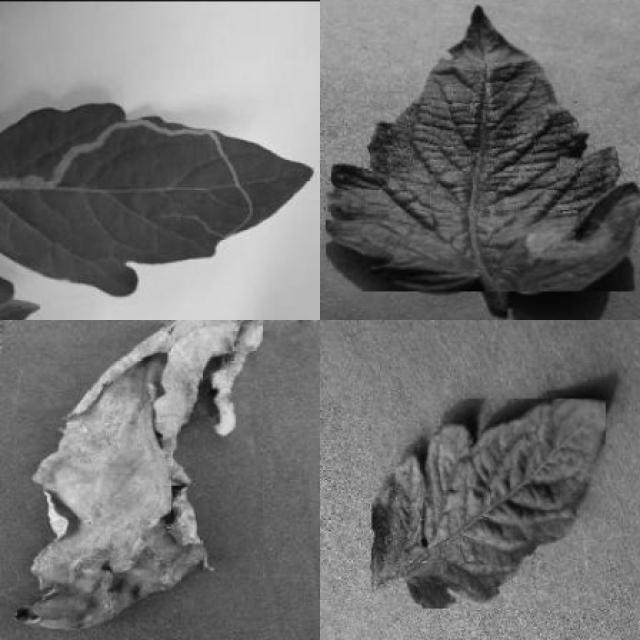Late Blight: (326, 4, 640, 292), (17, 320, 263, 629)
Leaf Miner: (0, 100, 314, 300)
Mosaic Virus: (371, 398, 606, 608)
